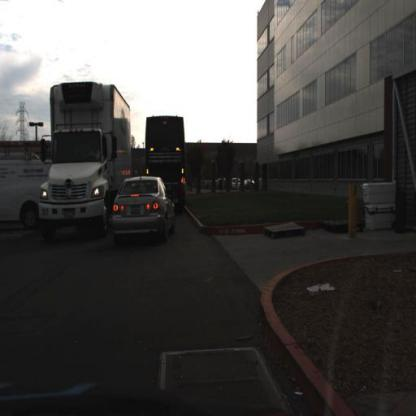car: (109, 172, 175, 242), (2, 154, 54, 229)
truck: (36, 79, 133, 233), (143, 115, 187, 210)
